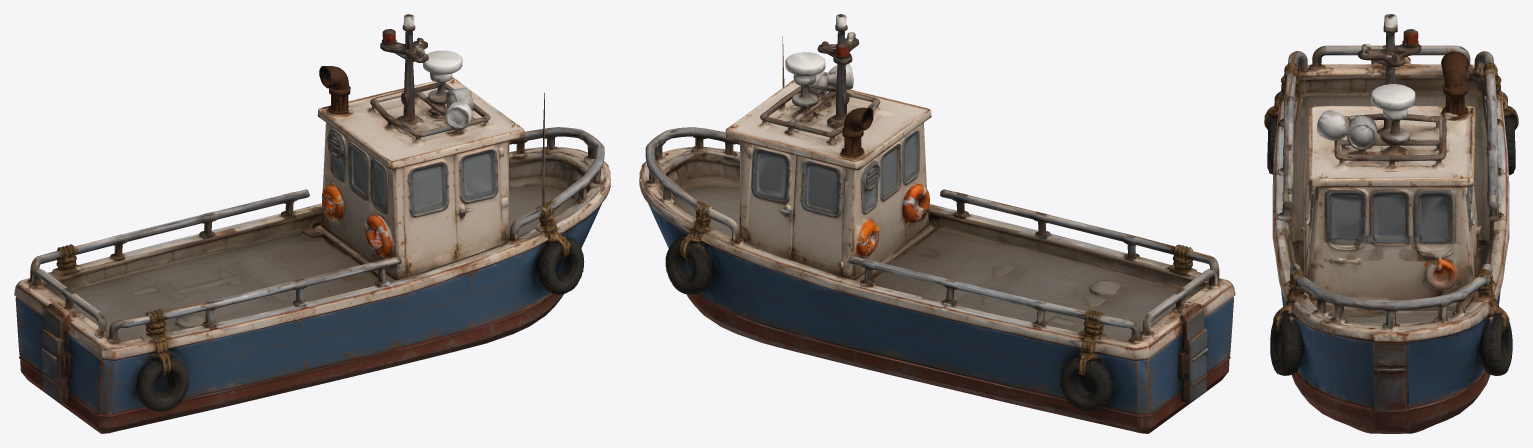
File: first_boat_optimized.glb
The picture shows the model from 3 angles, left to right: view 1: azimuth 30°, elevation 25°; view 2: azimuth 150°, elevation 25°; view 3: azimuth 270°, elevation 25°; orthographic projection. The views are drawn at different scales.
Parts seen in each view (by area): view 1: node_0; view 2: node_0; view 3: node_0.
Boxes of the visible parts, bbox=[...] form: node_0: bbox=[14, 14, 610, 433]; node_0: bbox=[639, 14, 1235, 433]; node_0: bbox=[1264, 14, 1518, 433].
Bounding box in the file's own units: 1.08 × 0.5768 × 0.3843.
Materials: 1 (1 with a texture image).
